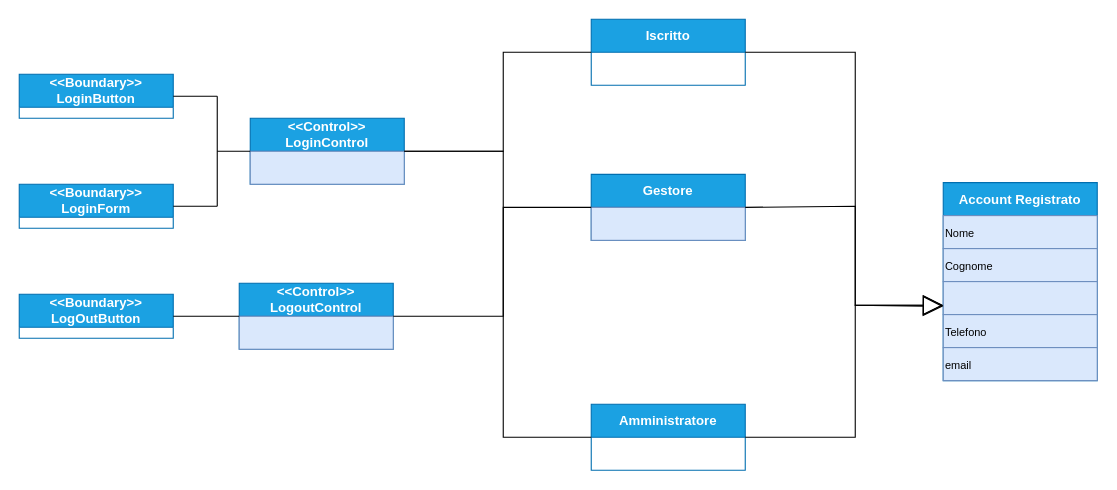
Image size: 1117x490. Some labels were removed from this diagram. Each missing label, with the centre of its shape:
+ Login (): the point at 326,167
+ Logout (): the point at 315,332
Area di Competenza: the point at 667,223
Username: the point at 1019,297
